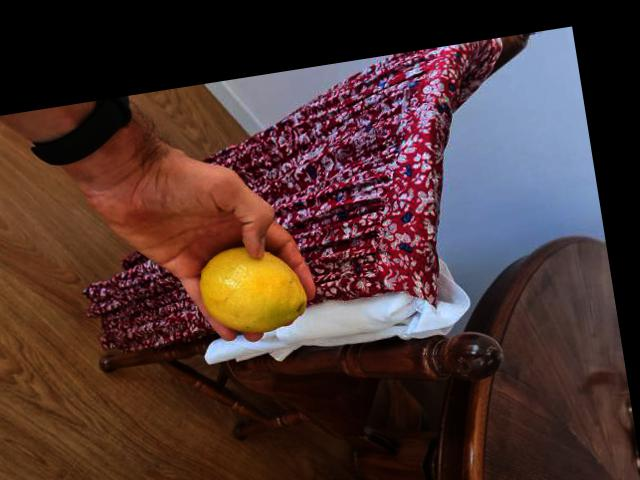lemon: (193, 237, 310, 342)
